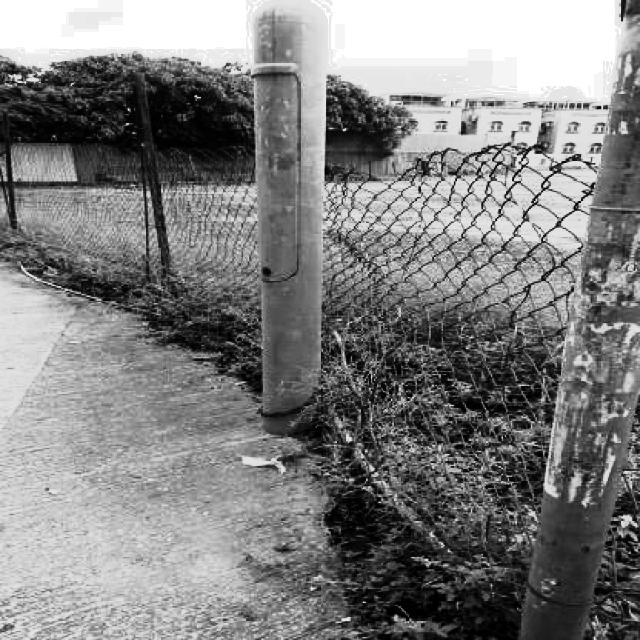anomaly-fence: (326, 136, 564, 461)
